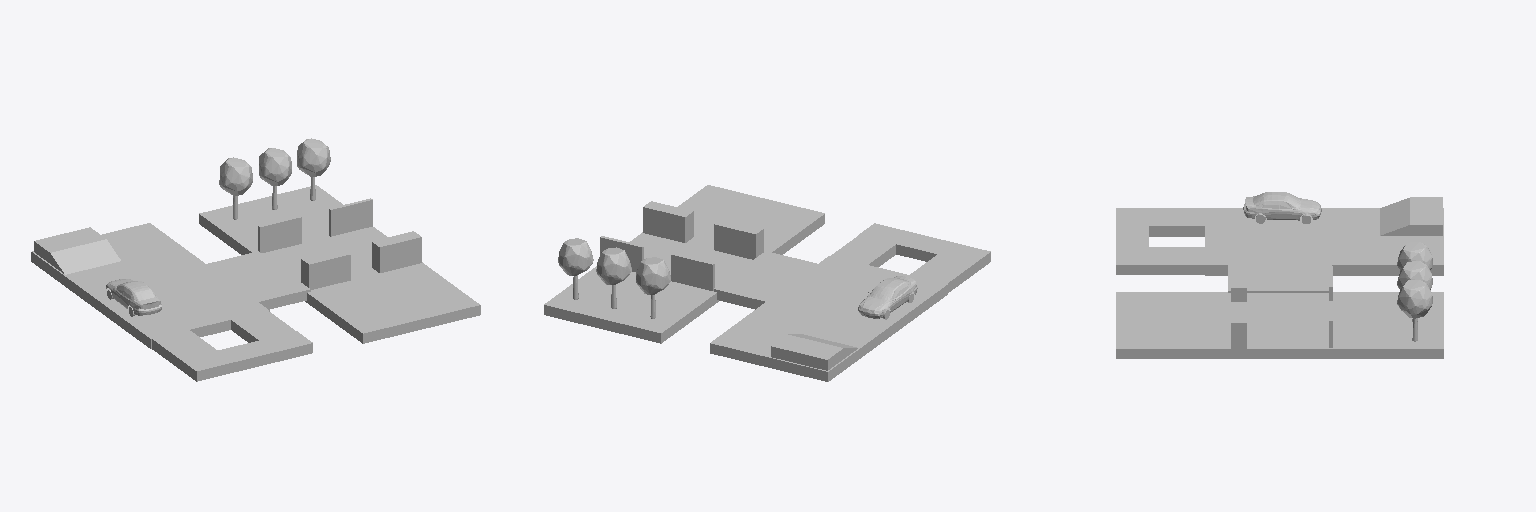
The model's file is map.obj.
3 renders of one model, left to right at view 1: azimuth 30°, elevation 25°; view 2: azimuth 150°, elevation 25°; view 3: azimuth 270°, elevation 25°, orthographic.
Visible parts, largest first — view 1: Cube.006_Cube.000, Cube.008_Cube.004, Cube.007_Cube.003, Cube.009_Cube.005, Cube_Cube.008, Cube.003_Cube.011, Cube.002_Cube.010, 05tyres, Cube.001_Cube.006, Cube.010_Cube.007, Cube.005_Cube.013, Cube.004_Cube.012 (+3 smaller); view 2: Cube.006_Cube.000, Cube.008_Cube.004, Cube.007_Cube.003, Cube.009_Cube.005, Cube_Cube.008, Cube.003_Cube.011, Cube.002_Cube.010, 05tyres, Cube.001_Cube.006, Cube.010_Cube.007, Cube.004_Cube.012, Tree (+3 smaller); view 3: Cube.006_Cube.000, Cube.008_Cube.004, Cube.007_Cube.003, Cube_Cube.008, Cube.009_Cube.005, 05tyres, Cube.001_Cube.006, Cube.010_Cube.007, Tree, Cube.003_Cube.011, Tree.002, Tree.001 (+1 smaller).
Part boxes in pixels (bbox=[...]): Cube.006_Cube.000: bbox=[199, 185, 480, 343]; Cube.008_Cube.004: bbox=[31, 223, 269, 348]; Cube.007_Cube.003: bbox=[205, 251, 310, 309]; Cube.009_Cube.005: bbox=[181, 331, 312, 381]; Cube_Cube.008: bbox=[34, 227, 120, 274]; Cube.003_Cube.011: bbox=[372, 231, 421, 272]; Cube.002_Cube.010: bbox=[301, 248, 350, 289]; 05tyres: bbox=[106, 279, 161, 316]; Cube.001_Cube.006: bbox=[152, 330, 217, 370]; Cube.010_Cube.007: bbox=[231, 310, 296, 342]; Cube.005_Cube.013: bbox=[329, 198, 372, 236]; Cube.004_Cube.012: bbox=[258, 216, 301, 252]; Cube.006_Cube.000: bbox=[544, 185, 824, 343]; Cube.008_Cube.004: bbox=[710, 256, 947, 381]; Cube.007_Cube.003: bbox=[714, 251, 818, 309]; Cube.009_Cube.005: bbox=[859, 223, 990, 272]; Cube_Cube.008: bbox=[771, 334, 857, 370]; Cube.003_Cube.011: bbox=[643, 201, 693, 242]; Cube.002_Cube.010: bbox=[714, 218, 763, 259]; 05tyres: bbox=[858, 276, 917, 319]; Cube.001_Cube.006: bbox=[909, 254, 975, 292]; Cube.010_Cube.007: bbox=[831, 234, 895, 266]; Cube.004_Cube.012: bbox=[671, 253, 714, 290]; Tree: bbox=[558, 238, 593, 299]; Cube.006_Cube.000: bbox=[1116, 292, 1443, 358]; Cube.008_Cube.004: bbox=[1205, 208, 1443, 275]; Cube.007_Cube.003: bbox=[1228, 265, 1331, 292]; Cube_Cube.008: bbox=[1380, 197, 1442, 235]; Cube.009_Cube.005: bbox=[1116, 208, 1148, 274]; 05tyres: bbox=[1243, 192, 1321, 223]; Cube.001_Cube.006: bbox=[1146, 208, 1205, 236]; Cube.010_Cube.007: bbox=[1146, 247, 1205, 274]; Tree: bbox=[1397, 280, 1432, 341]; Cube.003_Cube.011: bbox=[1231, 302, 1246, 348]; Tree.002: bbox=[1397, 242, 1432, 270]; Tree.001: bbox=[1397, 261, 1432, 321].
Size of the model in its own units: 20.18 by 4.58 by 20.18.